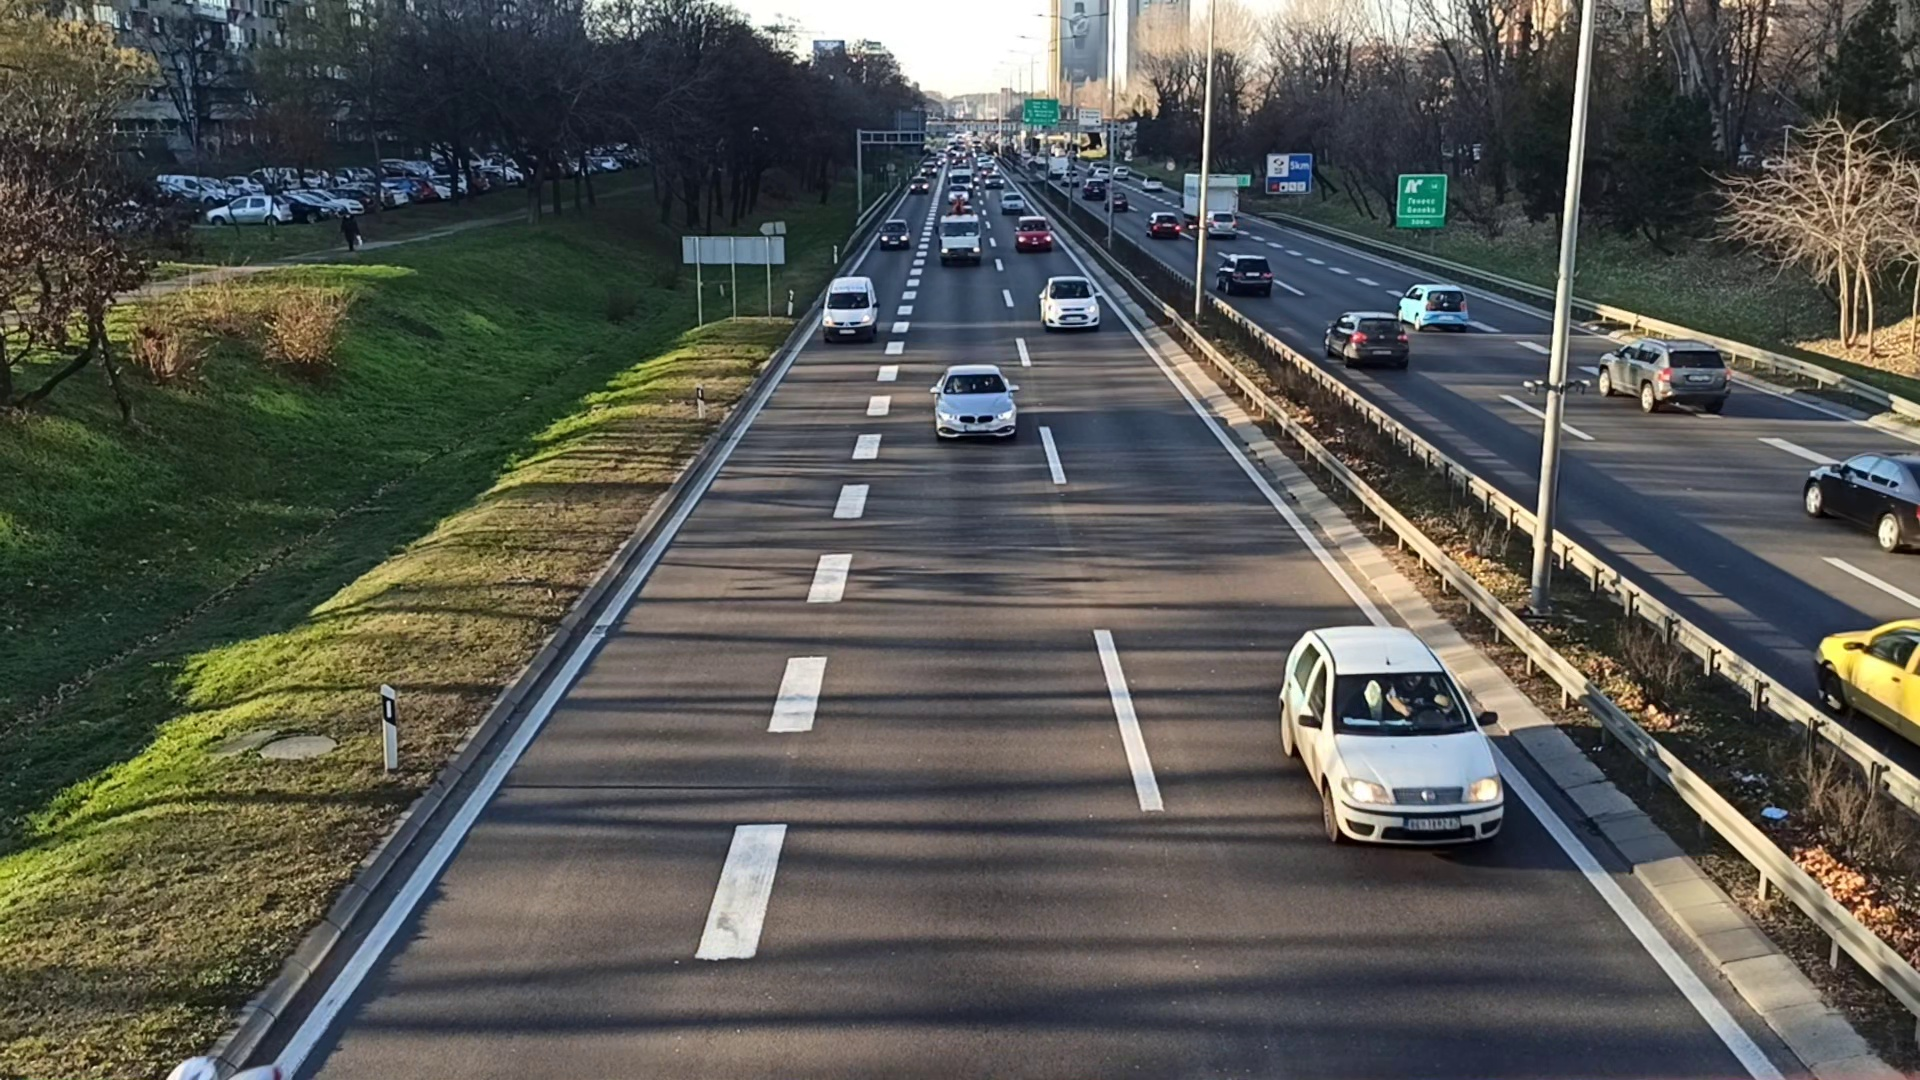car: (1275, 621, 1509, 857), (1596, 338, 1733, 419), (931, 360, 1017, 444), (1323, 310, 1414, 371), (818, 276, 880, 339), (1038, 276, 1102, 334), (1398, 284, 1468, 328), (1217, 251, 1274, 297), (1013, 210, 1051, 251), (880, 218, 910, 249)
truck: (936, 206, 982, 262)
